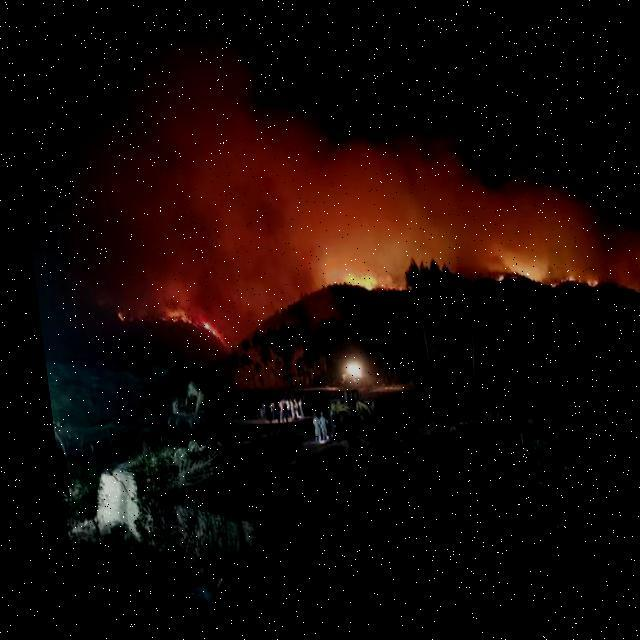Fire: (497, 254, 591, 298), (330, 268, 385, 308)
